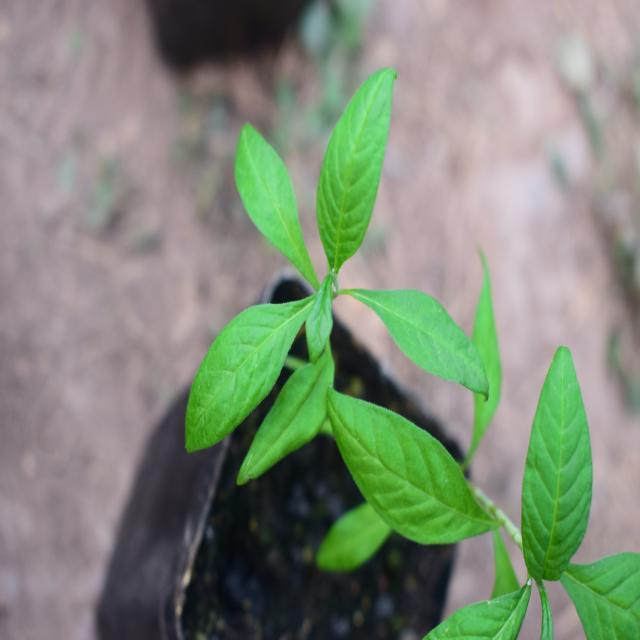white_smart_weed: (174, 55, 489, 518)
